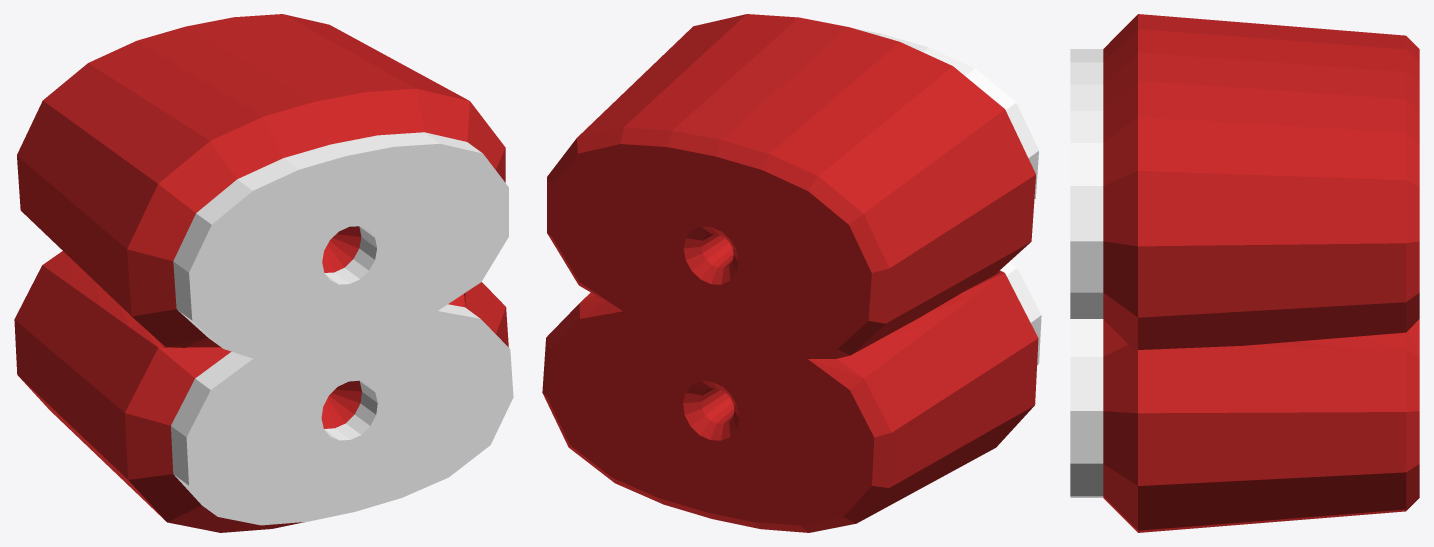
3 renders of one model, left to right at view 1: azimuth 30°, elevation 25°; view 2: azimuth 150°, elevation 25°; view 3: azimuth 270°, elevation 25°, orthographic. The views are drawn at different scales.
Parts seen in each view (by area): view 1: MoText_1; view 2: MoText_1; view 3: MoText_1.
Boxes of the visible parts, x1,y1,x2,y2 form: MoText_1: [14, 14, 513, 532]; MoText_1: [542, 14, 1041, 532]; MoText_1: [1070, 14, 1419, 532].
Bounding box in the file's own units: 173 × 180 × 130.
